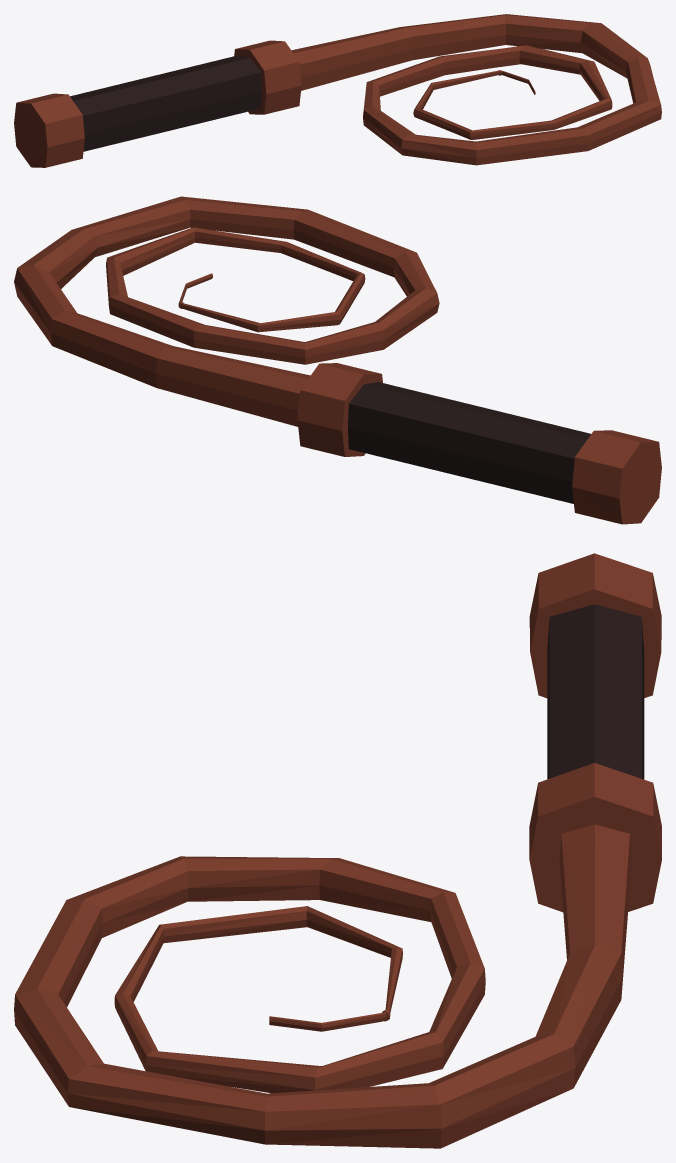
File: c23ae79e-267c-40b0-9495-cde807de1128.glb
3 views of the same model, one above another, from view 1: azimuth 30°, elevation 25°; view 2: azimuth 150°, elevation 25°; view 3: azimuth 270°, elevation 25° (orthographic). The views are drawn at different scales.
Parts seen in each view (by area): view 1: Node; view 2: Node; view 3: Node.
Boxes of the visible parts, bbox=[...] form: Node: bbox=[14, 14, 661, 167]; Node: bbox=[14, 196, 661, 524]; Node: bbox=[14, 553, 661, 1148].
Size of the model in its own units: 4.4 by 0.505 by 2.34.
